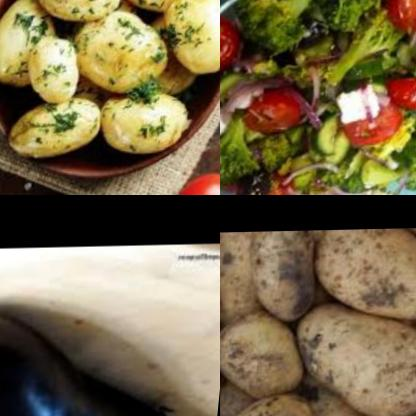broccoli: (327, 7, 404, 95), (235, 0, 317, 57), (220, 119, 273, 185), (320, 0, 387, 31)
cucumber: (315, 118, 357, 171)
eggplant: (0, 304, 220, 416)
onion: (283, 181, 379, 195)
potato: (0, 0, 220, 159), (296, 299, 416, 416), (311, 227, 416, 324), (220, 302, 322, 390), (250, 230, 328, 318), (220, 232, 280, 323), (220, 387, 344, 416)
tomato: (243, 94, 320, 147), (343, 101, 407, 154), (220, 19, 247, 78), (247, 174, 312, 195), (386, 76, 416, 117), (390, 0, 416, 43), (176, 170, 220, 195)
